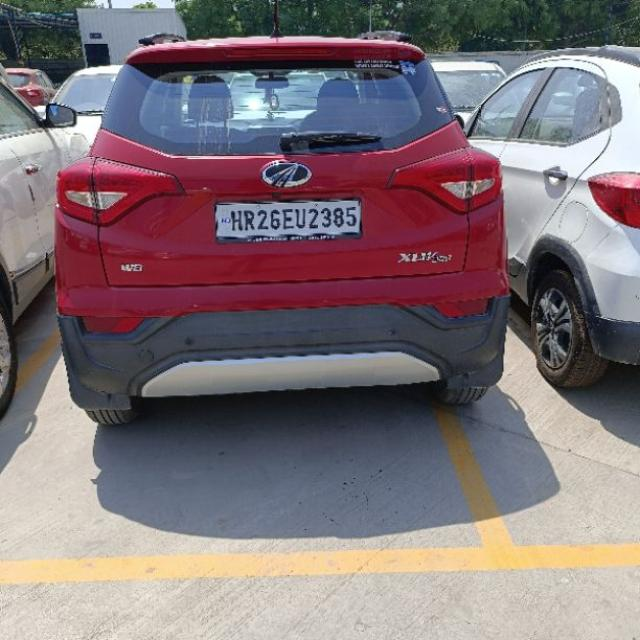license_plate: (213, 197, 362, 240)
